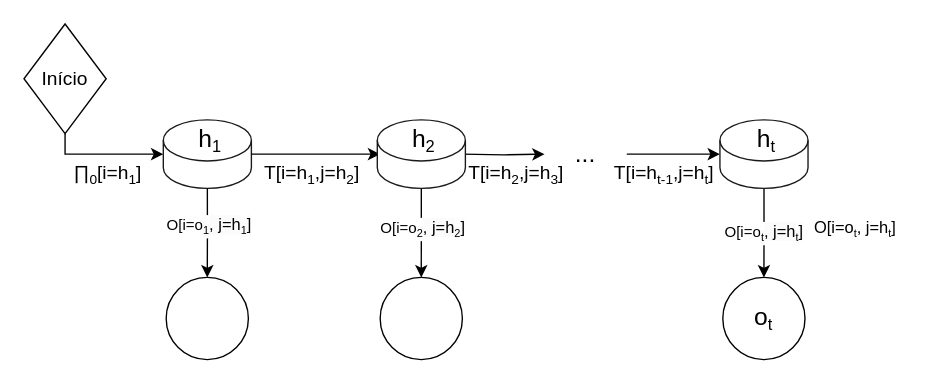
This 927x384 diagram has some shape labels left out. Each missing label, with the centre of its shape:
"o 1" belongs at point 206,318.
"o 2" belongs at point 420,318.
